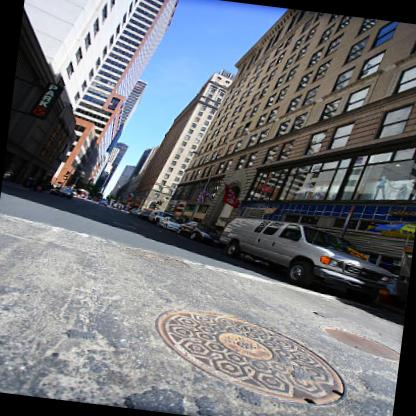manholes: (126, 290, 360, 416), (302, 303, 404, 370)
